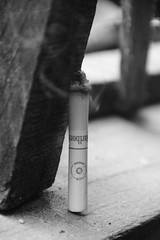cigarette: (65, 69, 92, 215)
